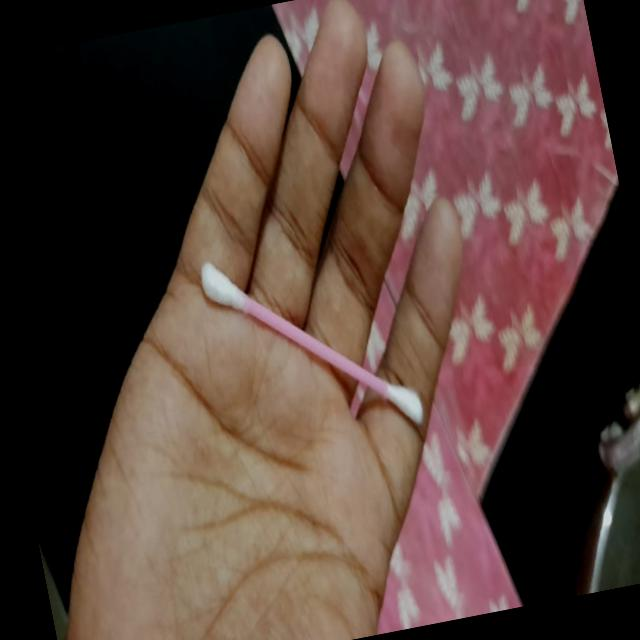Earbud - Non Recyclable: (195, 221, 428, 465)
